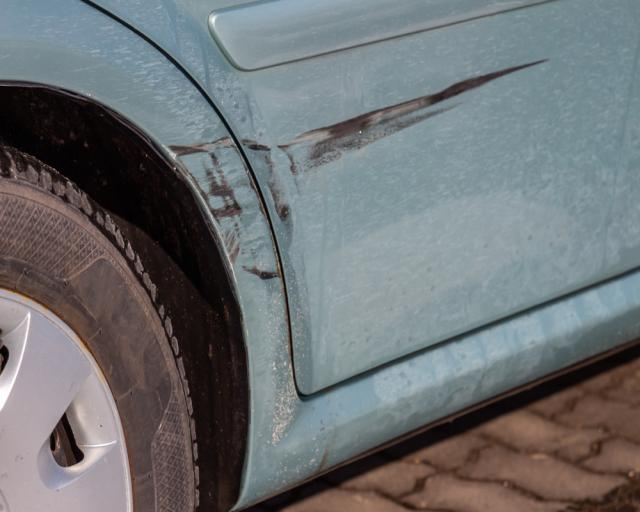scratch: (240, 55, 557, 225), (163, 134, 284, 286)
